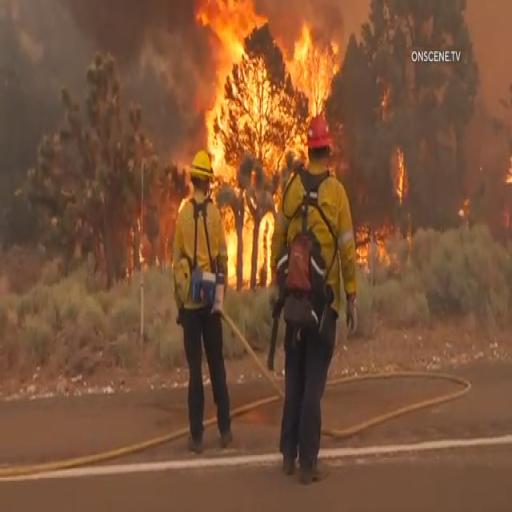fire: (3, 0, 188, 157), (202, 1, 312, 163)
